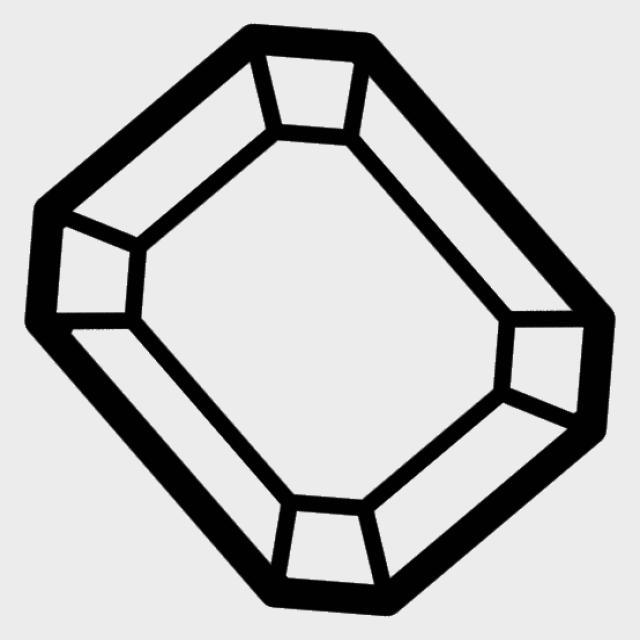emerald: (14, 9, 624, 625)
